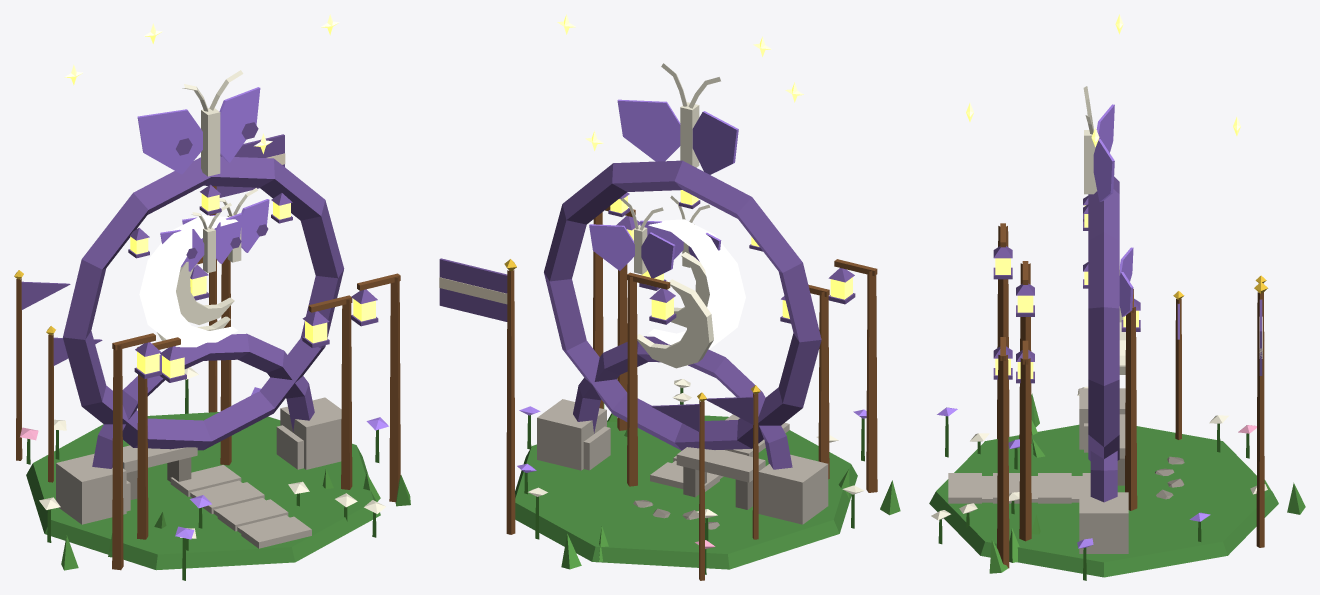
File: moth-moon-garden.glb
3 renders of one model, left to right at view 1: azimuth 30°, elevation 25°; view 2: azimuth 150°, elevation 25°; view 3: azimuth 270°, elevation 25°, orthographic. The views are drawn at different scales.
Visible parts, largest first — view 1: lv3, lv2, lv1; view 2: lv3, lv2, lv1; view 3: lv3, lv2, lv1.
Part boxes in pixels (x1,y1,x2,y2): lv3: [14, 14, 410, 580]; lv2: [46, 203, 380, 557]; lv1: [123, 188, 333, 528]; lv3: [439, 14, 900, 580]; lv2: [517, 195, 849, 561]; lv1: [589, 198, 765, 529]; lv3: [929, 14, 1305, 580]; lv2: [959, 261, 1270, 562]; lv1: [1008, 247, 1184, 534].
Size of the model in its own units: 1.73 by 2.14 by 1.68.
